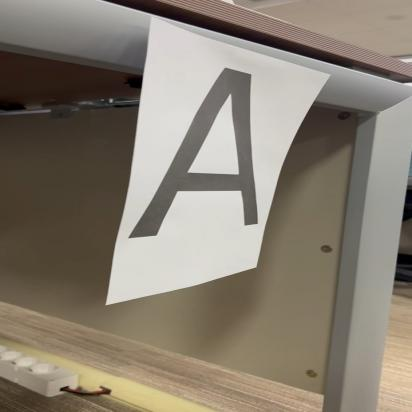seat: (124, 60, 286, 246)
